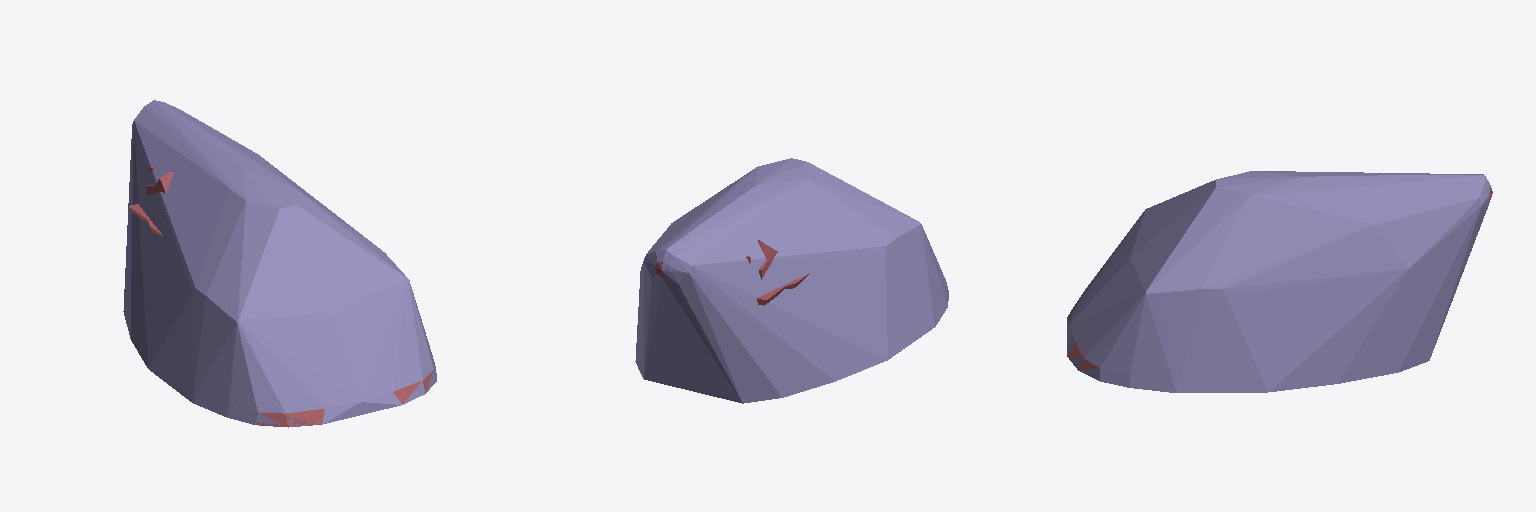
3 views of the same model, side by side, from view 1: azimuth 30°, elevation 25°; view 2: azimuth 150°, elevation 25°; view 3: azimuth 270°, elevation 25° (orthographic).
Parts seen in each view (by area): view 1: ship_aatd_physics, ship_aatd; view 2: ship_aatd_physics, ship_aatd; view 3: ship_aatd_physics.
Part boxes in pixels (x1,y1,x2,y2): ship_aatd_physics: (123,100,436,427); ship_aatd: (129,166,433,426); ship_aatd_physics: (635,158,948,403); ship_aatd: (655,240,809,305); ship_aatd_physics: (1067,171,1492,392).
Bounding box in the file's own units: 295 × 198 × 471.